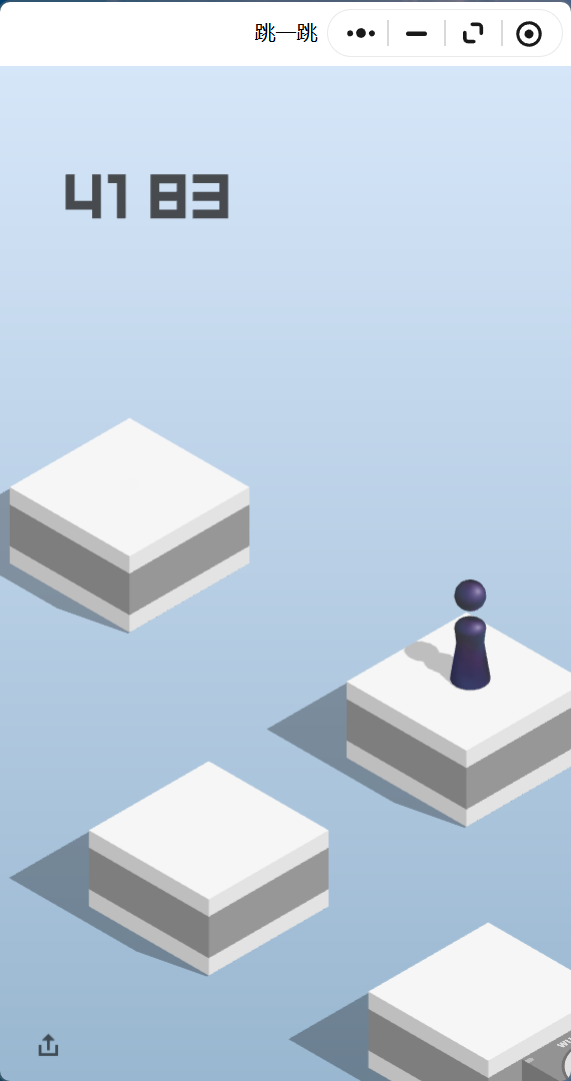piece: (455, 581, 485, 685)
target: (10, 418, 249, 556)
